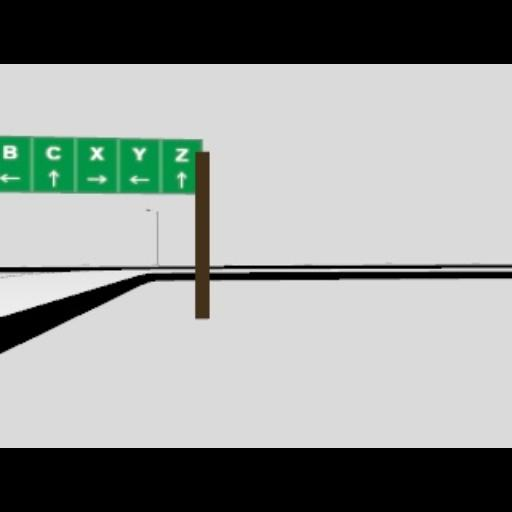B: (2, 144, 18, 158)
C: (45, 144, 61, 160)
Left: (128, 174, 150, 184), (0, 173, 20, 183)
Right: (85, 174, 107, 184)
Straight: (48, 168, 60, 186), (176, 171, 188, 187)
X: (90, 146, 104, 160)
Y: (131, 146, 145, 160)
Z: (173, 146, 189, 162)
